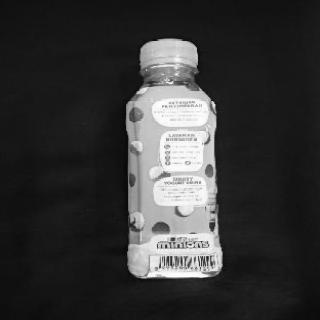plastic_bottles: (124, 35, 227, 280)
